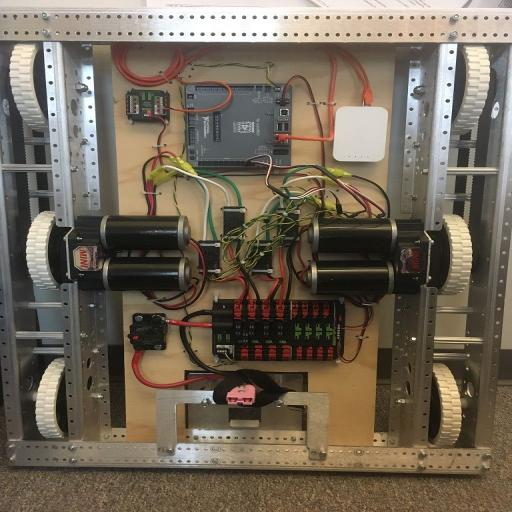robot: (2, 9, 506, 484)
